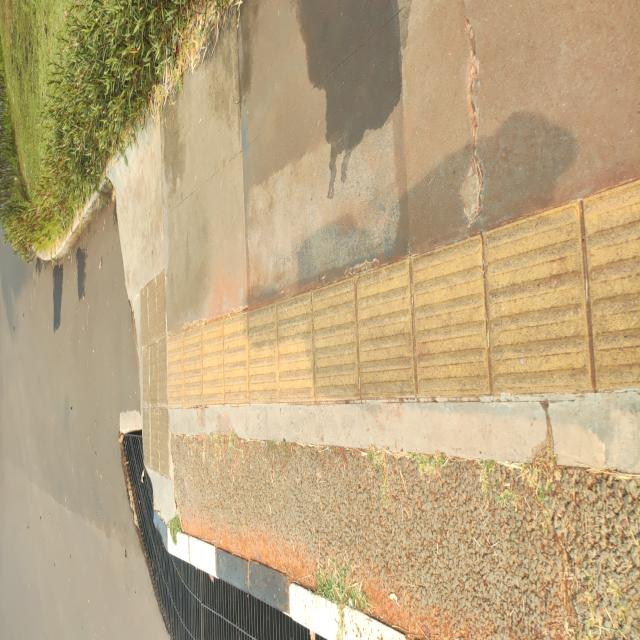lurus: (133, 297, 248, 640)
